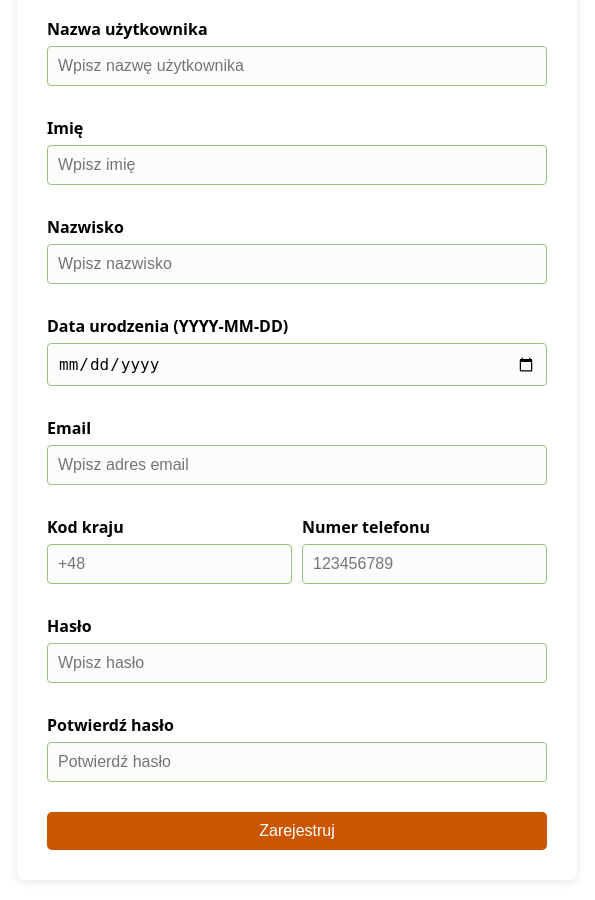
it: Register Page › displays client-side validation errors
(page scrolled)
Step 1. Click the button "Zarejestruj" → (297, 832), box [47, 812, 547, 850]
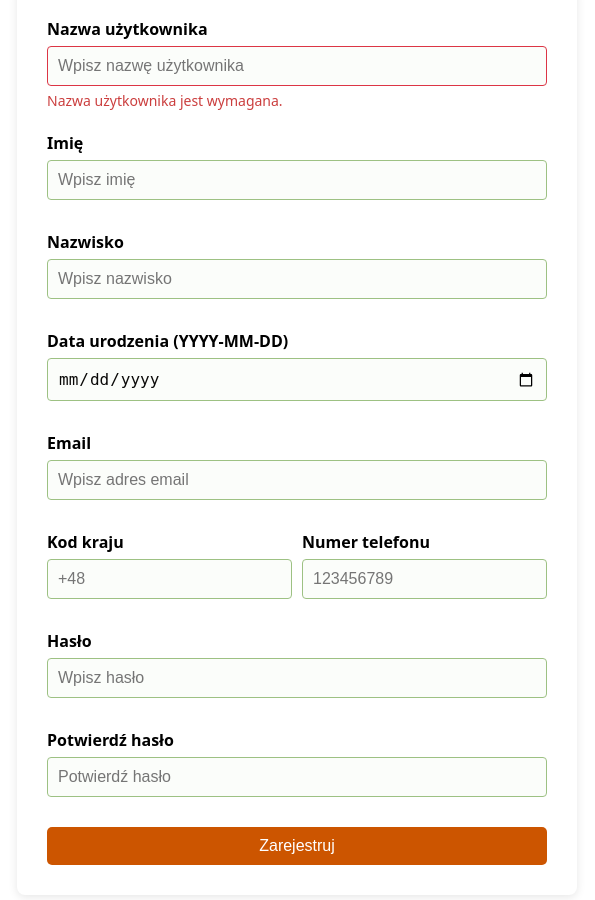
expect the text "Nazwa użytkownika jest wymagana." is shown: met, box [47, 92, 283, 110]
